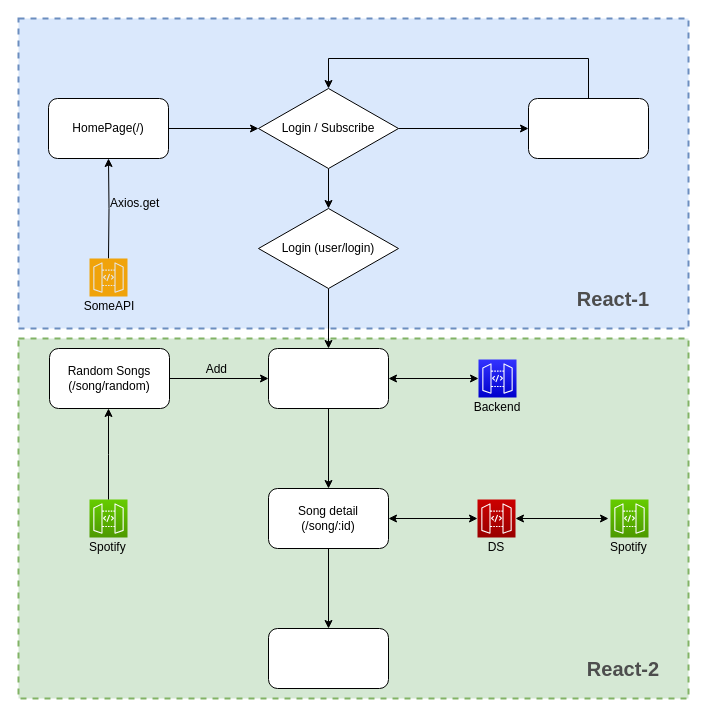
The diagram is 706 pixels wide and 716 high, and some of its shapes have lost their labels. The shapes that lost their labels are listed below. From the top down, each one's box as (x1, y1, x2, y2) in pixels, then its label:
(528, 98, 648, 158): Registration form (/user/form)
(268, 348, 388, 408): Song List (/song/list)
(268, 628, 388, 688): Song suggestion (/song/suggestion)
